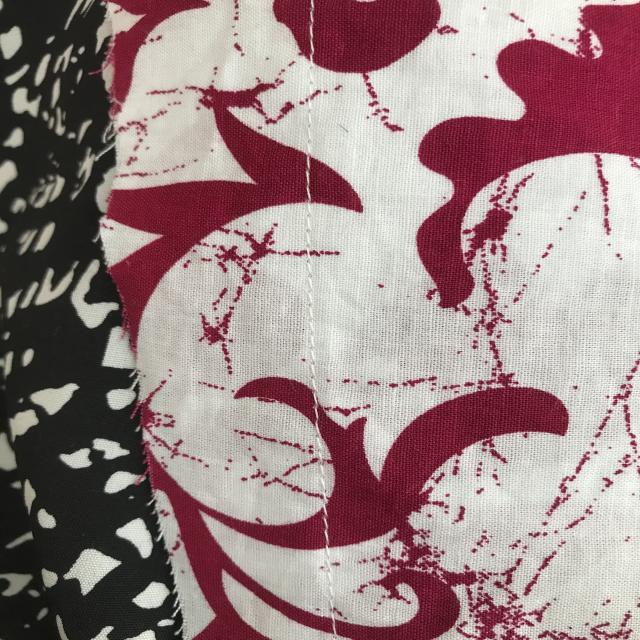good: (292, 266, 336, 357), (310, 468, 344, 552), (294, 10, 328, 47)
